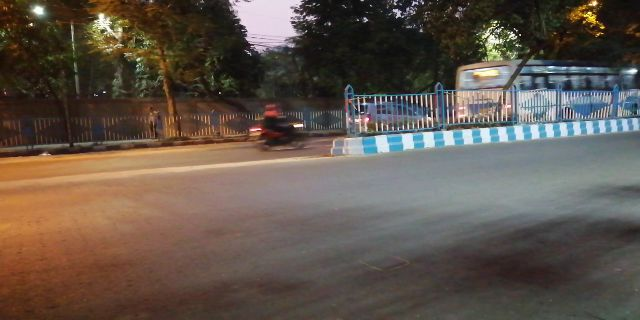Bus: (453, 57, 610, 131)
Motorbike: (249, 104, 310, 149)
